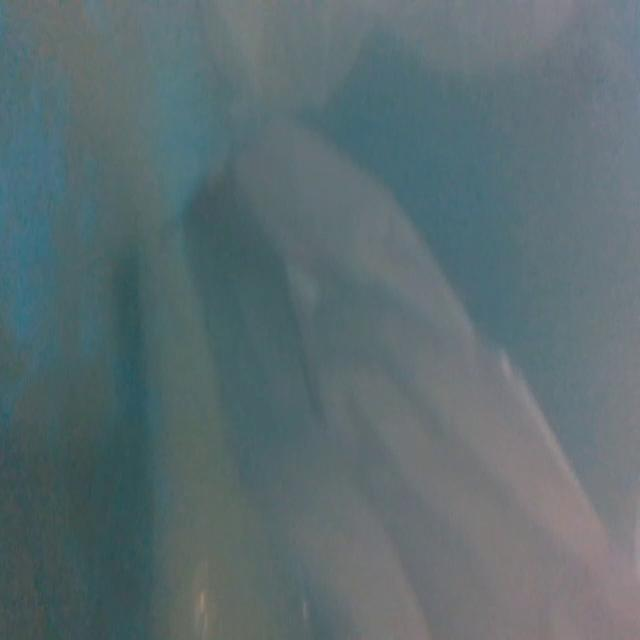plastic bags: (113, 117, 640, 639), (194, 1, 598, 100)
